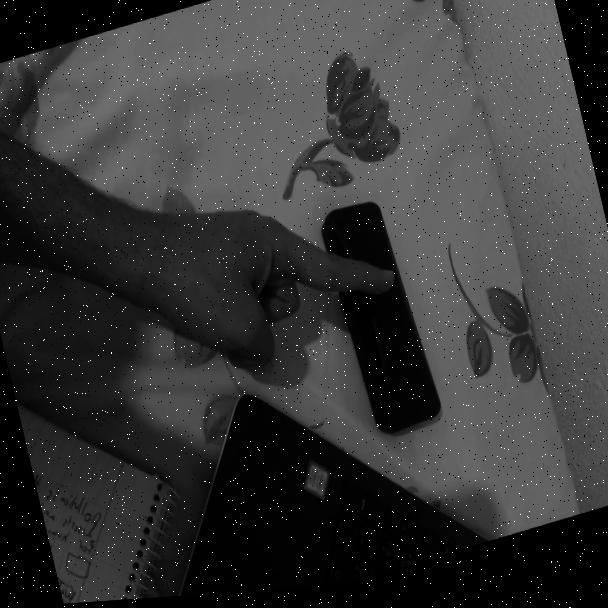one: (134, 157, 416, 388)
